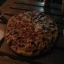pizza: (7, 12, 55, 54)
